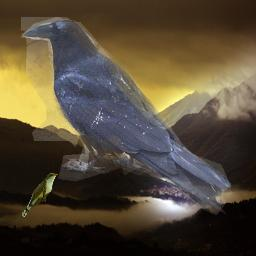Crow: (21, 17, 231, 215)
Cuckoo: (22, 173, 58, 217)
